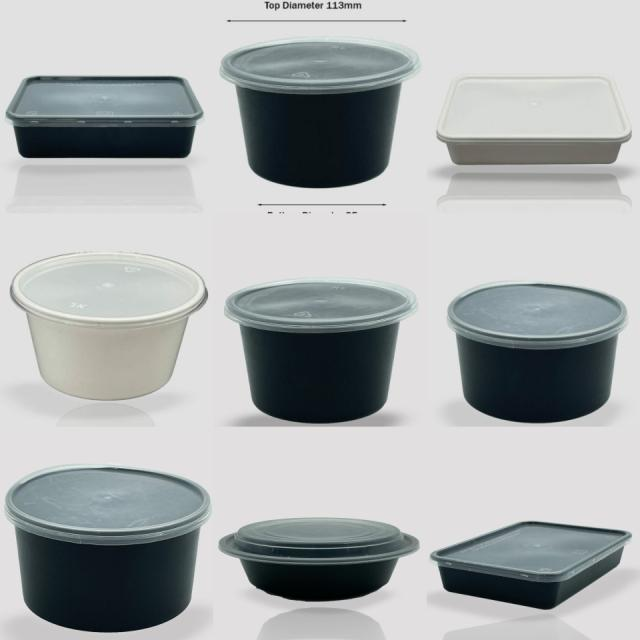Single-Use-Plastic: (5, 465, 211, 632), (220, 38, 419, 188), (10, 252, 208, 399), (224, 278, 418, 422), (448, 281, 629, 422), (430, 521, 632, 609), (436, 74, 631, 163), (219, 518, 419, 601), (5, 76, 204, 158)
